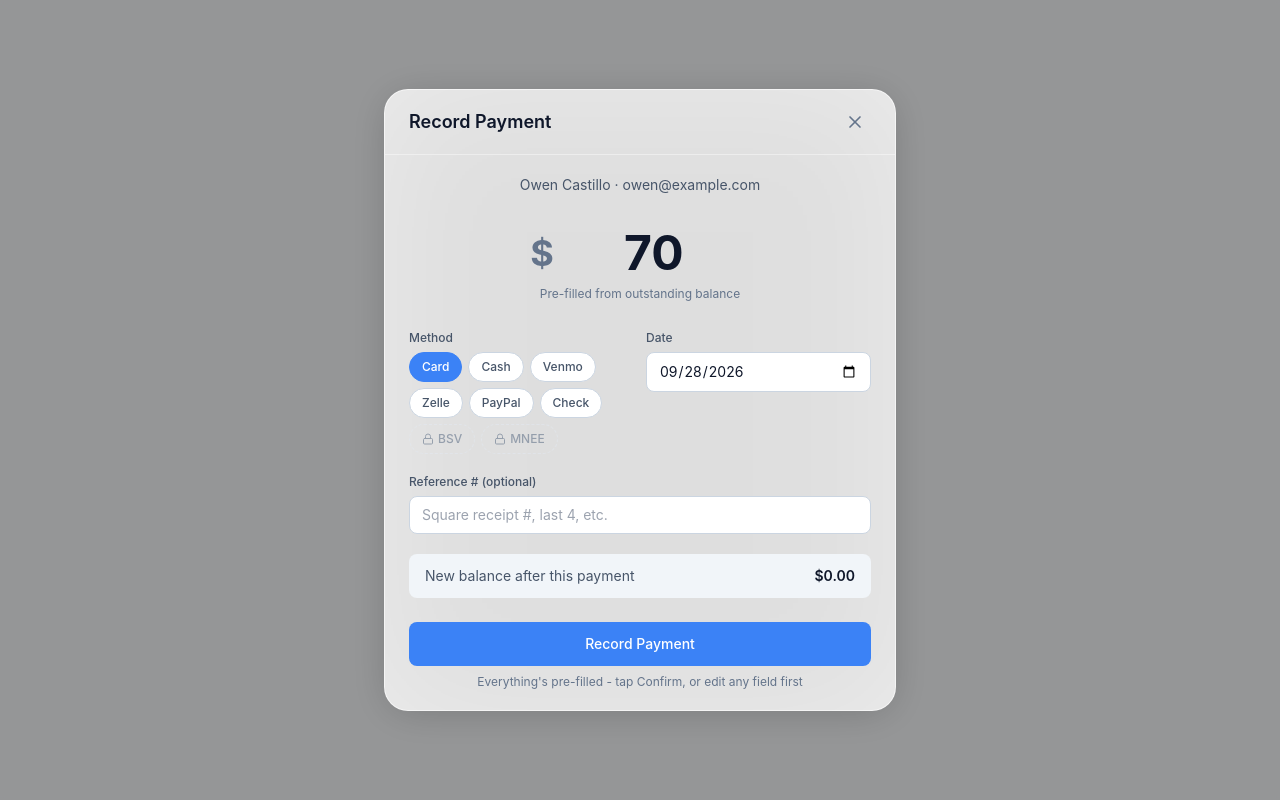
Test: PaymentModal - live running-balance preview (item 4) › shows overpayment as a credit, not floored at $0.00
The image size is (1280, 800).
Step 1. Replace the text in the number field with placeholder "0.00" with "90" → (654, 252), box [558,223,750,282]
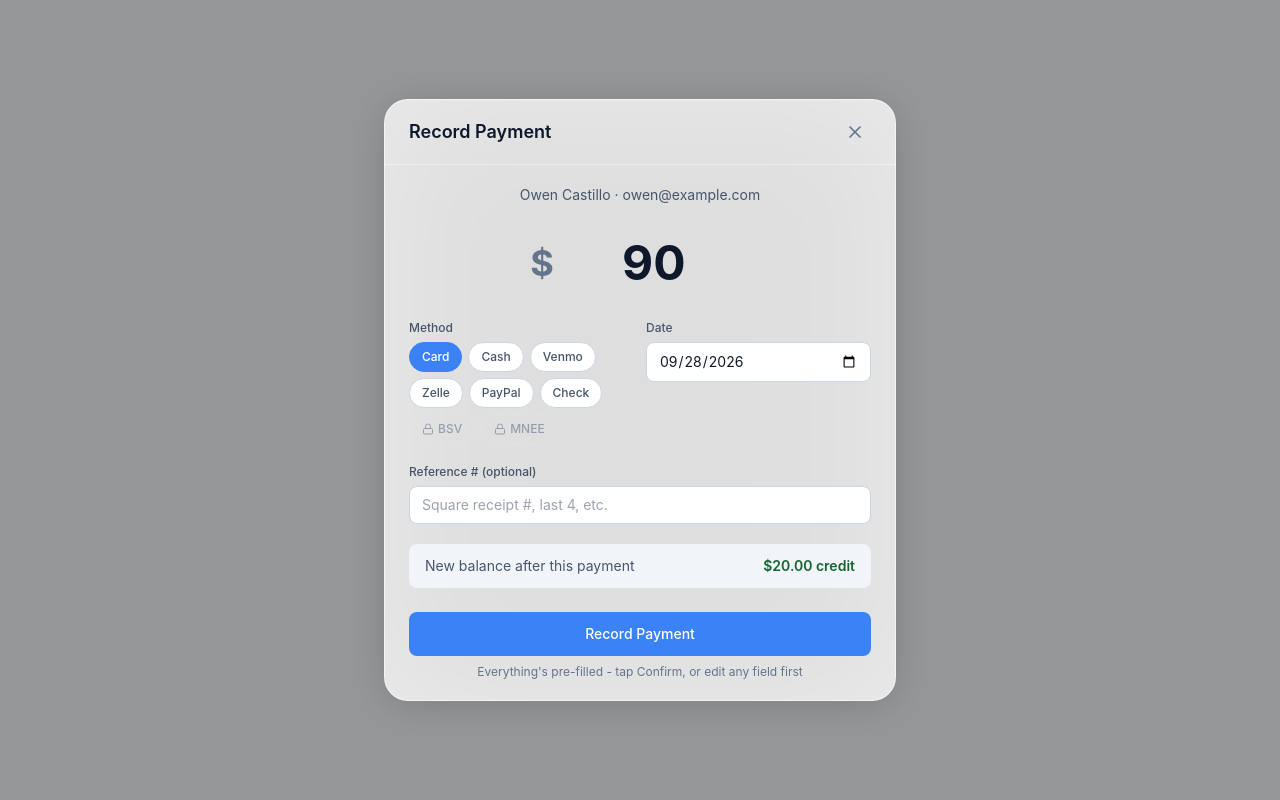
Result: the text "$20.00 credit" is shown at [763,556,855,576]
